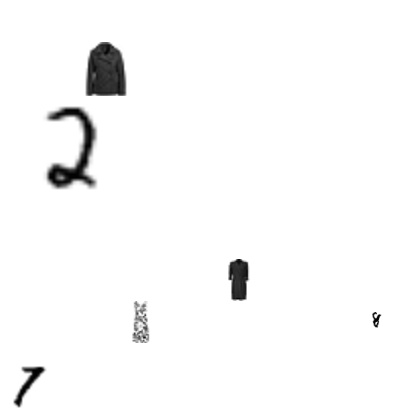0: (45, 289, 157, 401)
2: (201, 367, 243, 409)
7: (162, 109, 246, 193)
9: (365, 172, 407, 214)
Bag: (16, 193, 72, 249)
Dress: (123, 57, 145, 79)
Sandal: (282, 146, 324, 188)
Shirt: (224, 36, 280, 92)
